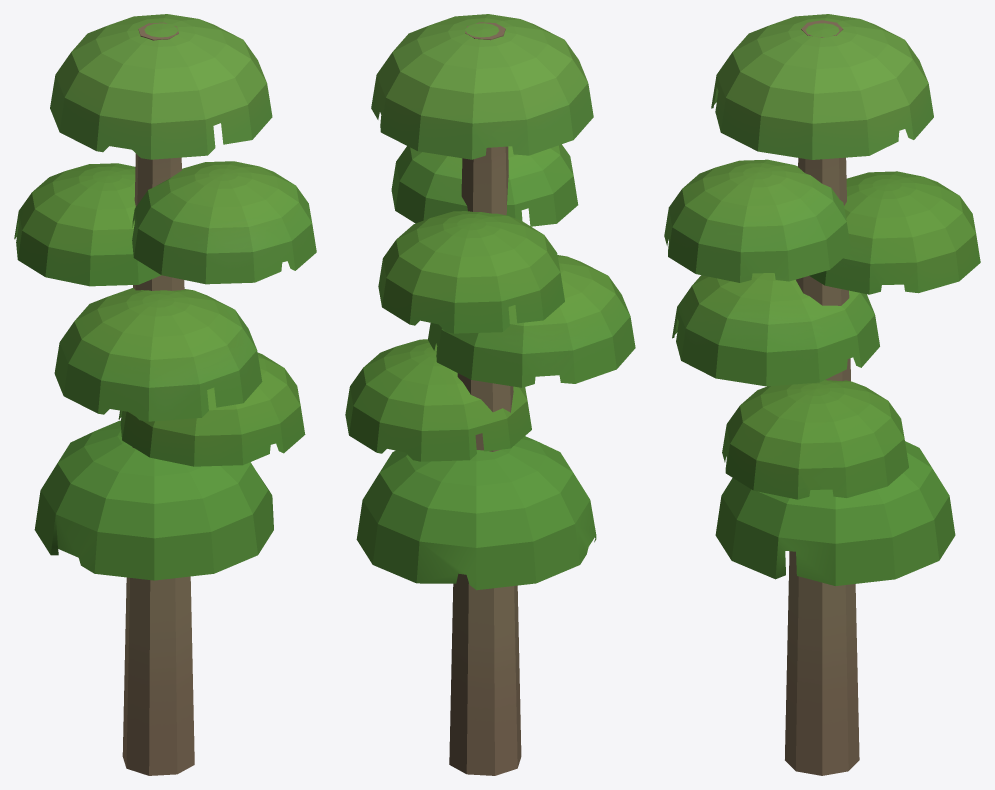
File: Dino_Tree_Tall.fbx
The picture shows the model from 3 angles, left to right: view 1: azimuth 30°, elevation 25°; view 2: azimuth 150°, elevation 25°; view 3: azimuth 270°, elevation 25°; orthographic projection.
Visible parts, largest first — view 1: Dino_Tree_Tall_mesh; view 2: Dino_Tree_Tall_mesh; view 3: Dino_Tree_Tall_mesh.
Boxes of the visible parts, x1,y1,x2,y2 form: Dino_Tree_Tall_mesh: [14, 14, 316, 775]; Dino_Tree_Tall_mesh: [345, 14, 635, 775]; Dino_Tree_Tall_mesh: [664, 14, 980, 775].
Bounding box in the file's own units: 25.95 × 73.85 × 28.94.
